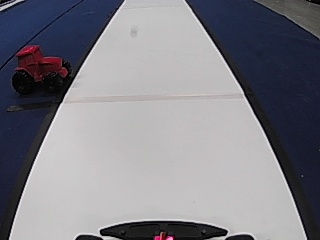tractor: (11, 43, 70, 95)
